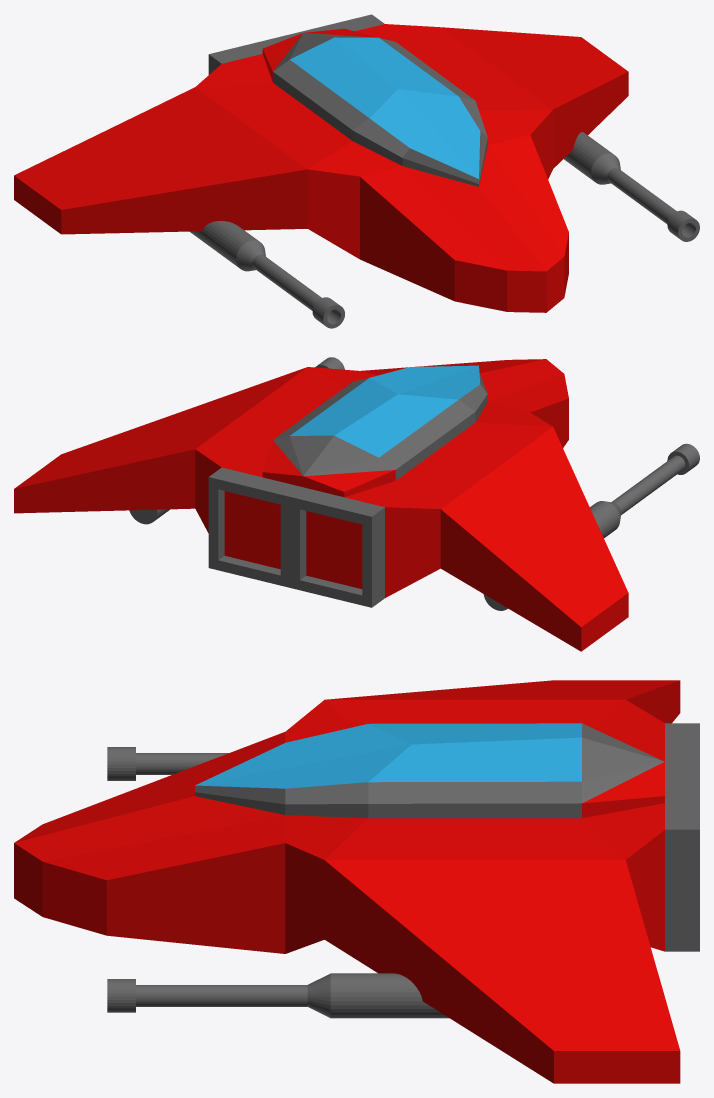
File: PlayerShip.fbx
The picture shows the model from 3 angles, top to bottom: view 1: azimuth 30°, elevation 25°; view 2: azimuth 150°, elevation 25°; view 3: azimuth 270°, elevation 25°; orthographic projection. The views are drawn at different scales.
Parts seen in each view (by area): view 1: Spaceship, Guns; view 2: Spaceship, Guns; view 3: Spaceship, Guns.
Boxes of the visible parts, box(x1,y1,x2,y2) form: Spaceship: box(14, 14, 628, 312); Guns: box(252, 168, 699, 328); Spaceship: box(14, 359, 628, 651); Guns: box(315, 357, 699, 514); Spaceship: box(14, 680, 699, 1083); Guns: box(107, 747, 307, 1012).
Bounding box in the file's own units: 4.62 × 0.9459 × 3.62.
